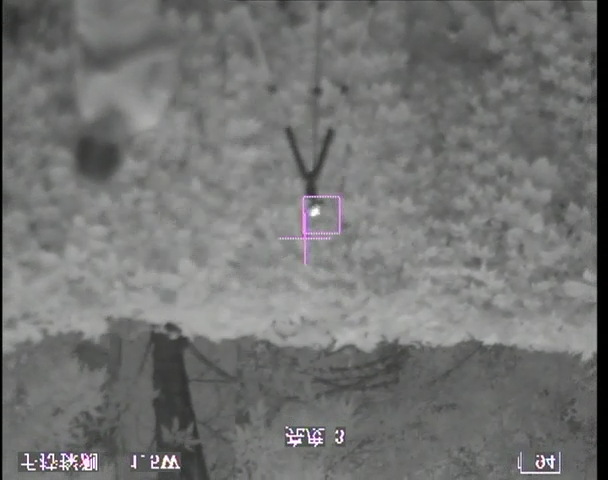my: (307, 205, 319, 217)
